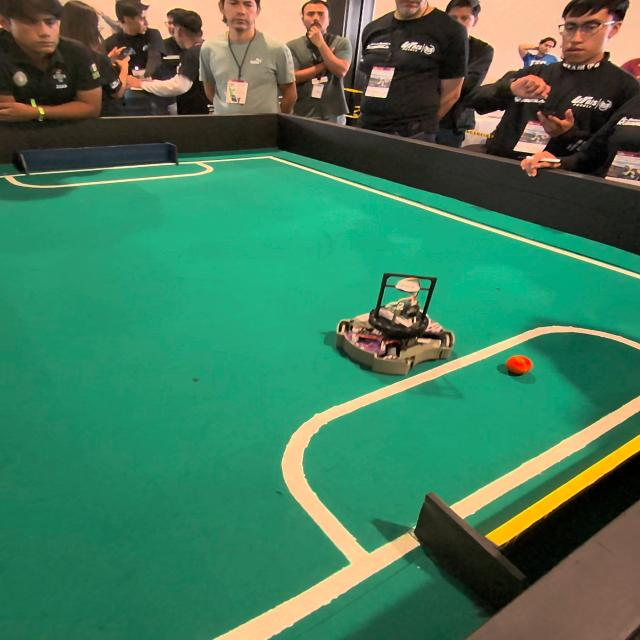Robot: (342, 267, 458, 378)
pelota: (506, 355, 533, 375)
